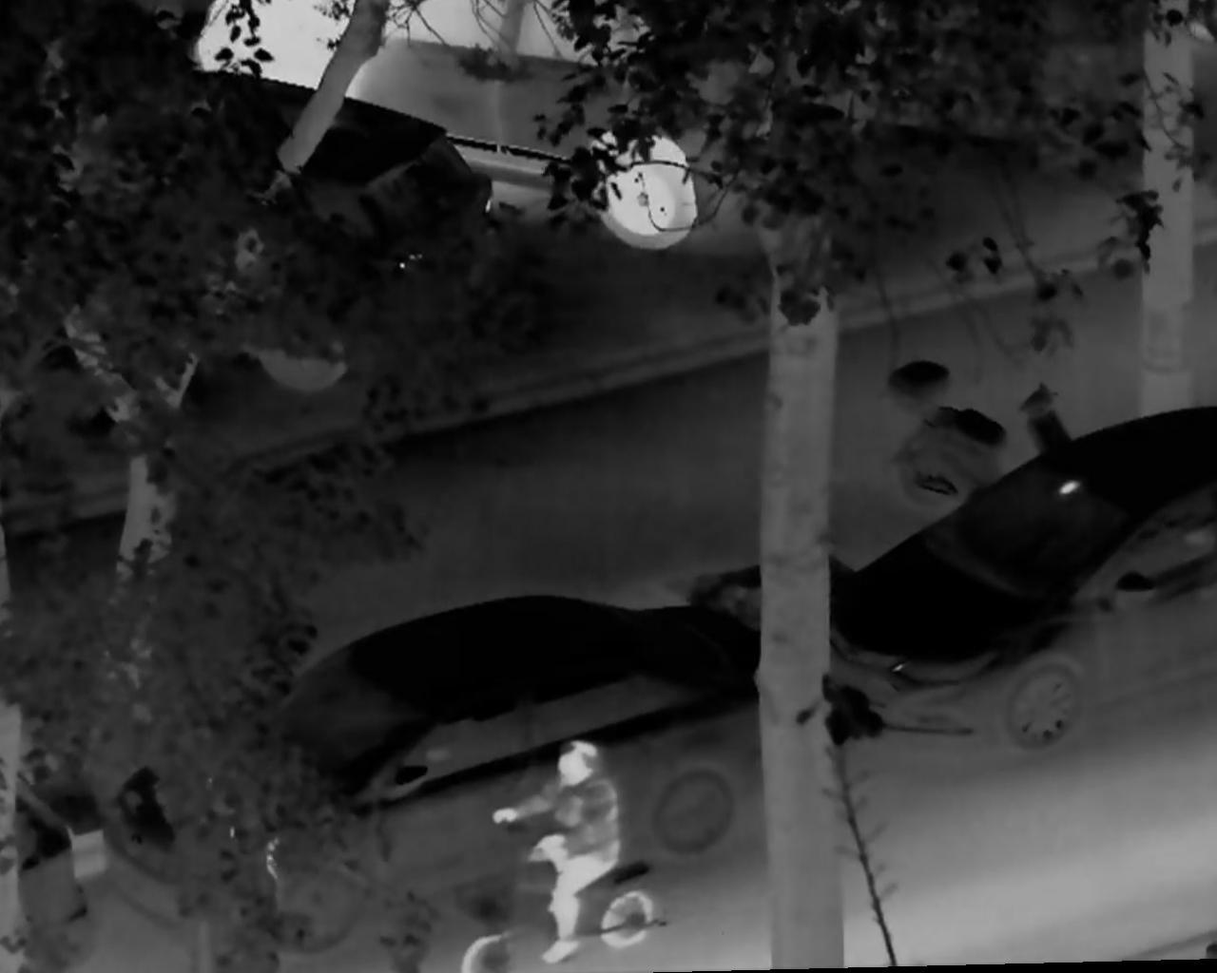person: (478, 737, 627, 968)
